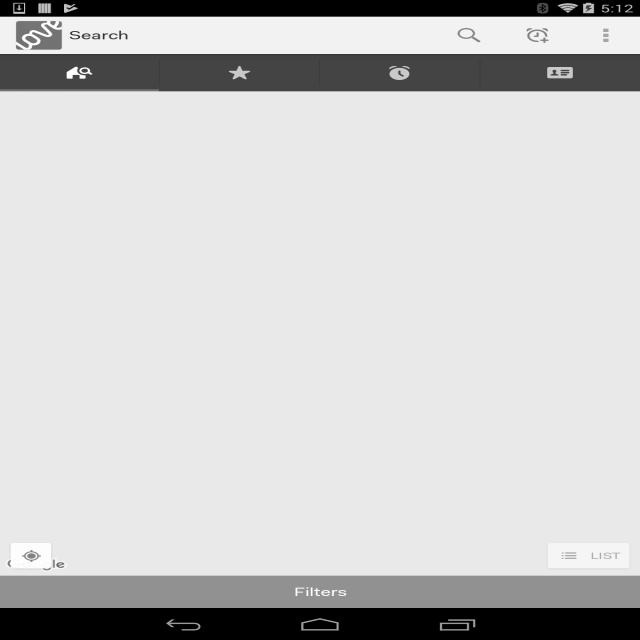Button: (546, 542, 632, 570)
ImageButton: (571, 16, 640, 54), (8, 542, 54, 570)
ImageView: (14, 19, 64, 52), (5, 558, 70, 572), (547, 64, 573, 80), (67, 64, 92, 80), (227, 64, 252, 80), (387, 64, 412, 80)
TextView: (0, 576, 640, 608), (435, 17, 504, 54), (503, 17, 572, 54), (69, 27, 129, 43)
